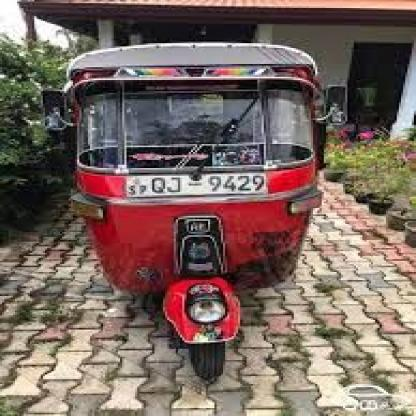number plate: (122, 173, 266, 203)
three wheeler front: (40, 37, 344, 386)
